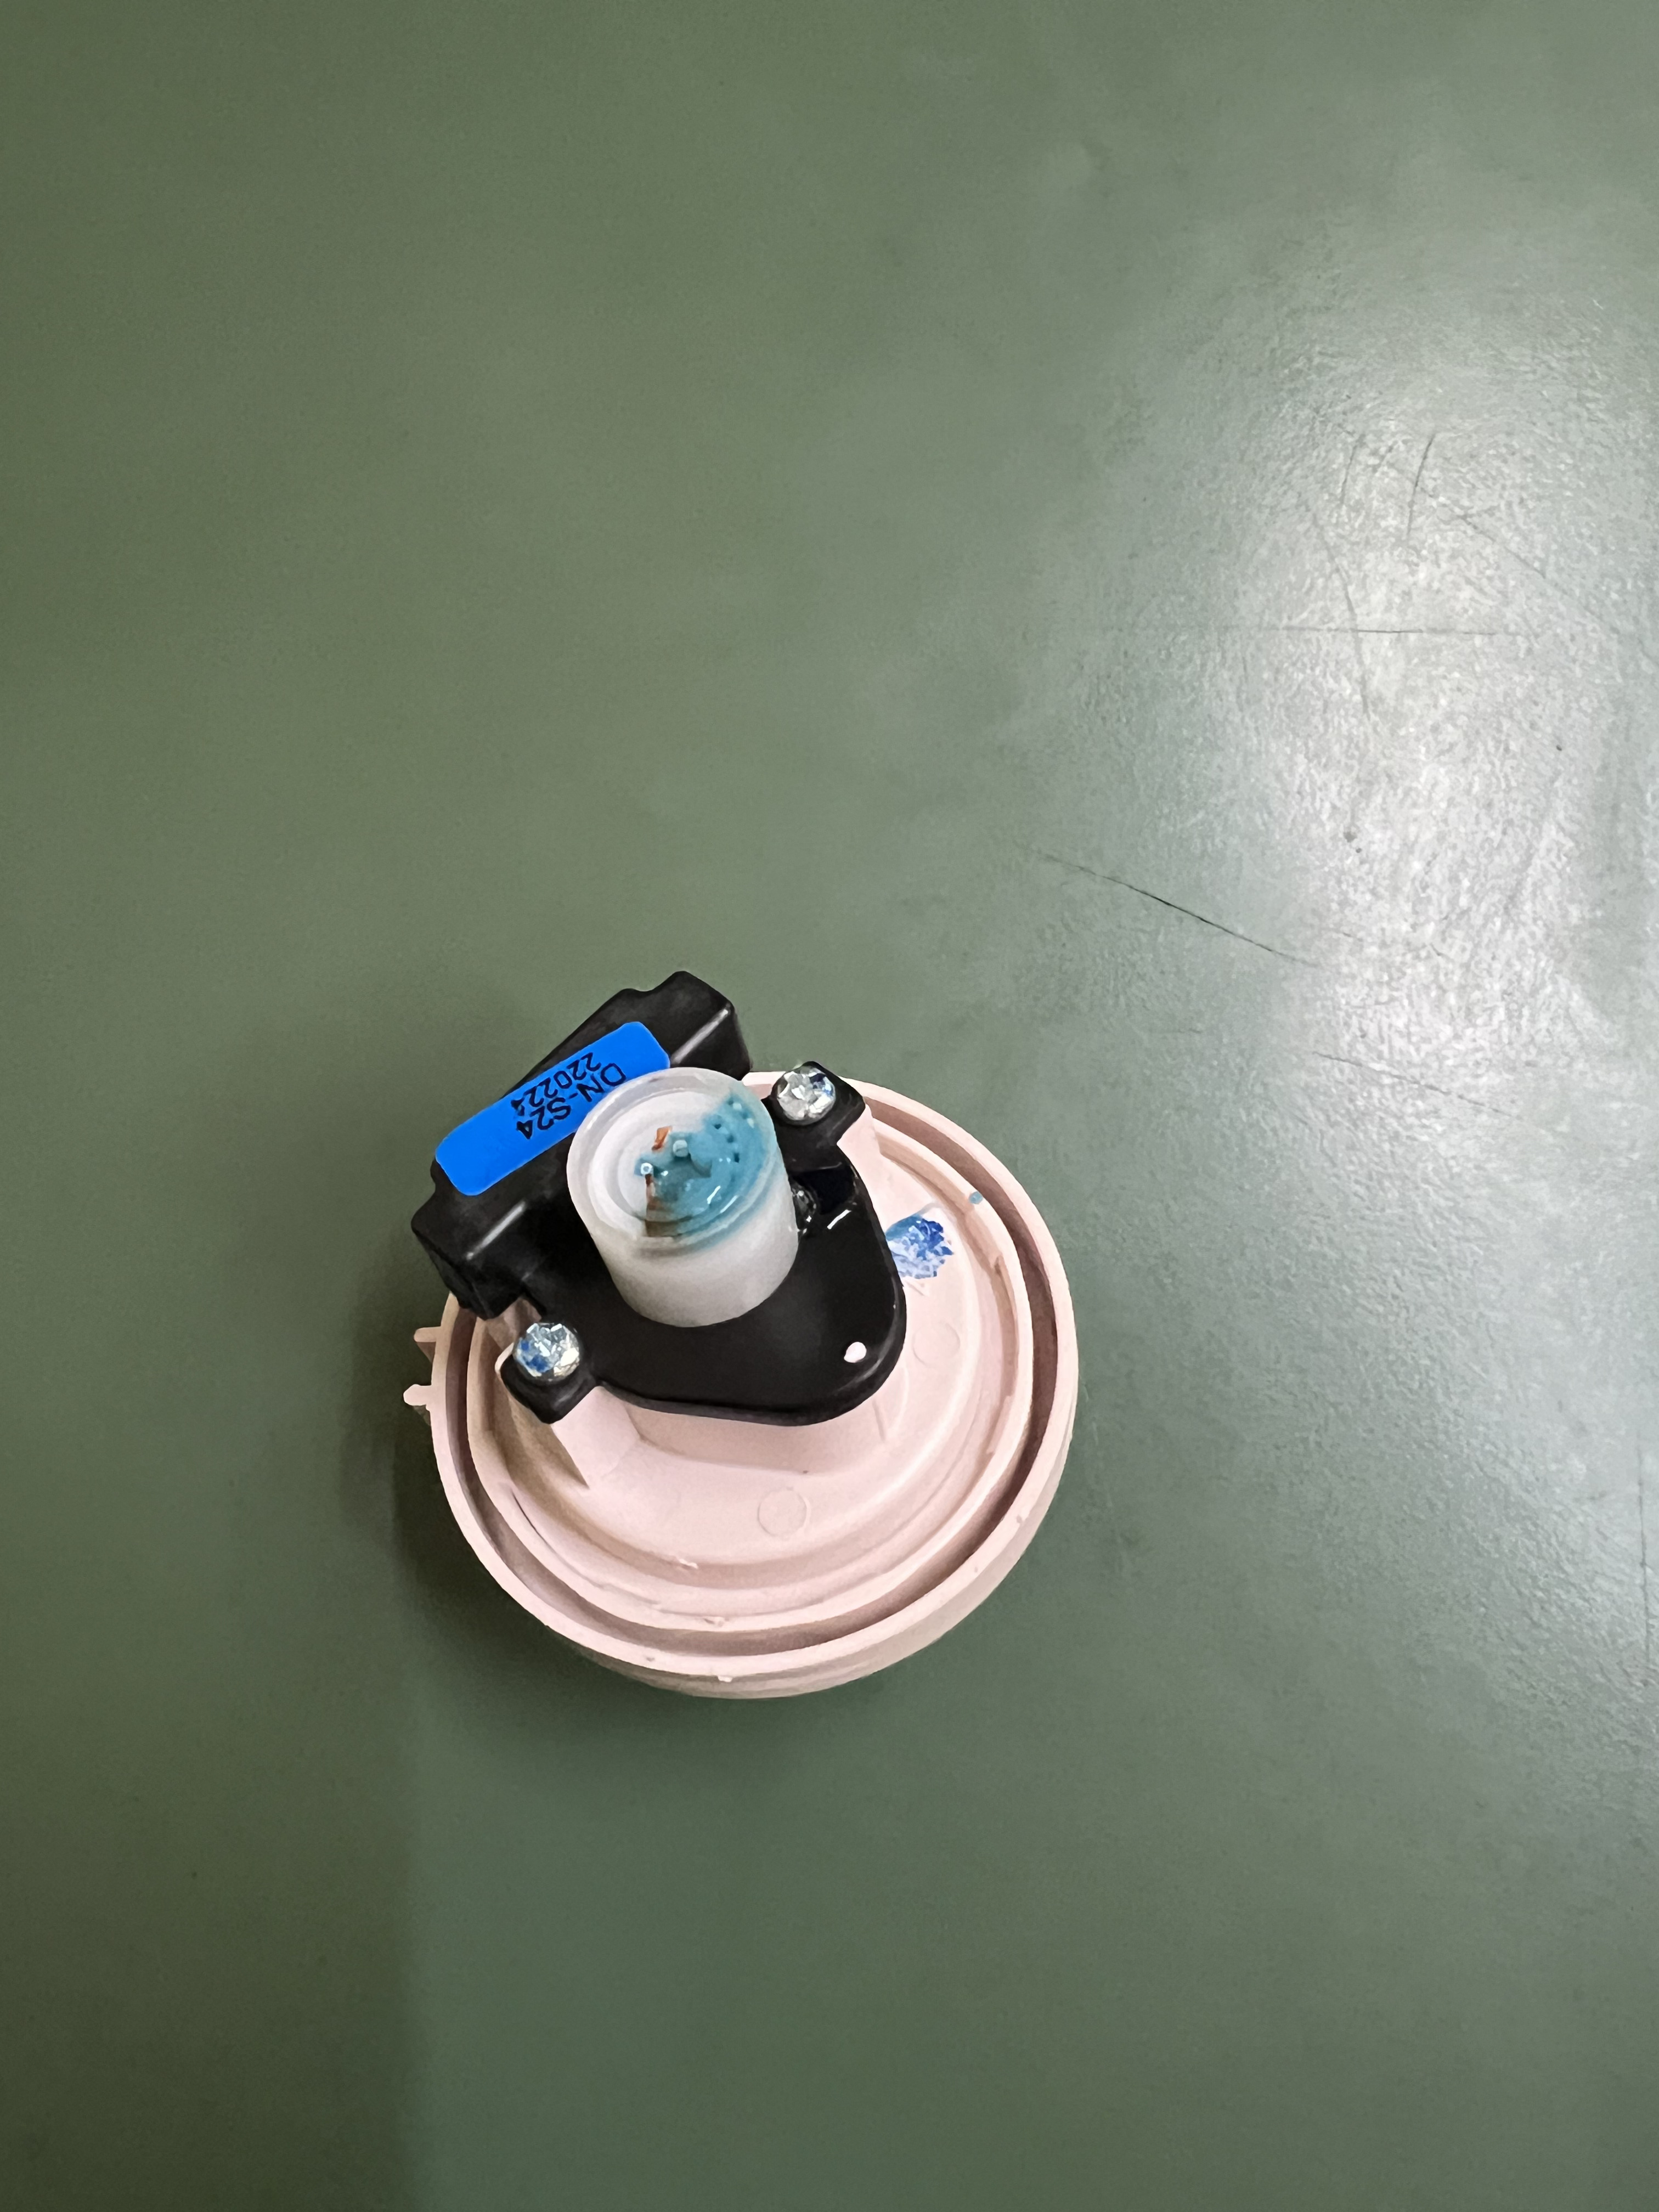pressure_sensor: (390, 967, 1107, 1709)
